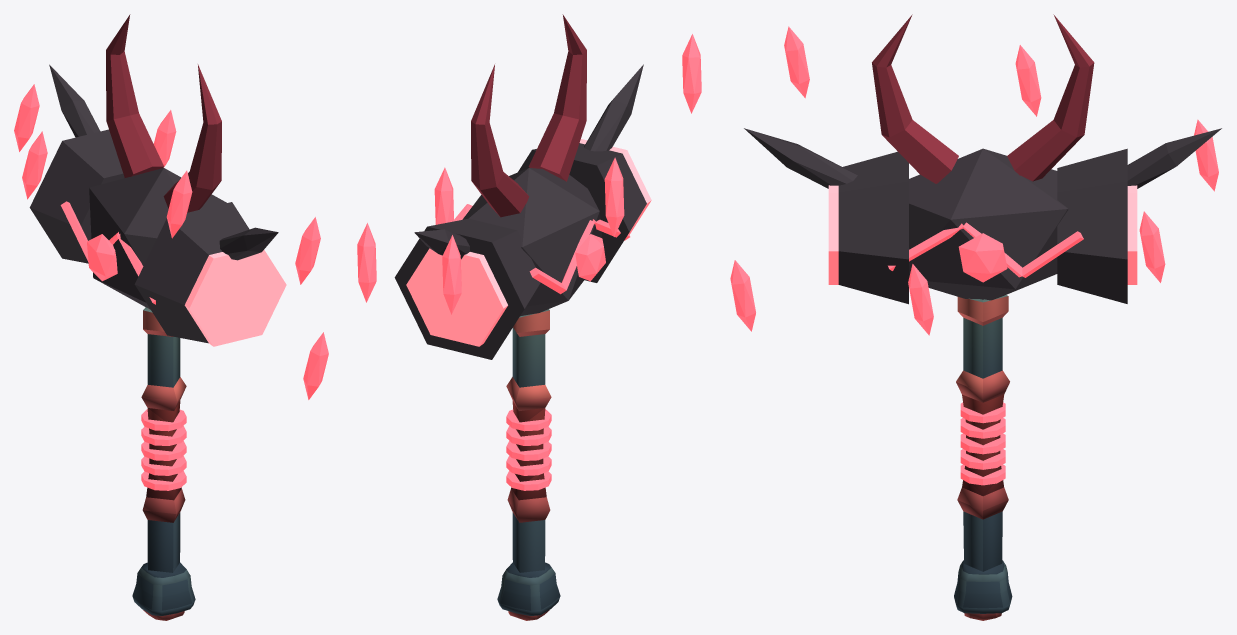
File: hammer_mythic.glb
3 views of the same model, side by side, from view 1: azimuth 30°, elevation 25°; view 2: azimuth 150°, elevation 25°; view 3: azimuth 270°, elevation 25° (orthographic). The views are drawn at different scales.
Visible parts, largest first — view 1: hammer_mythic; view 2: hammer_mythic; view 3: hammer_mythic.
Part boxes in pixels (x1,y1,x2,y2): hammer_mythic: (14,14,328,620); hammer_mythic: (357,14,701,620); hammer_mythic: (730,14,1221,620).
Bounding box in the file's own units: 74.02 × 171 × 126.
